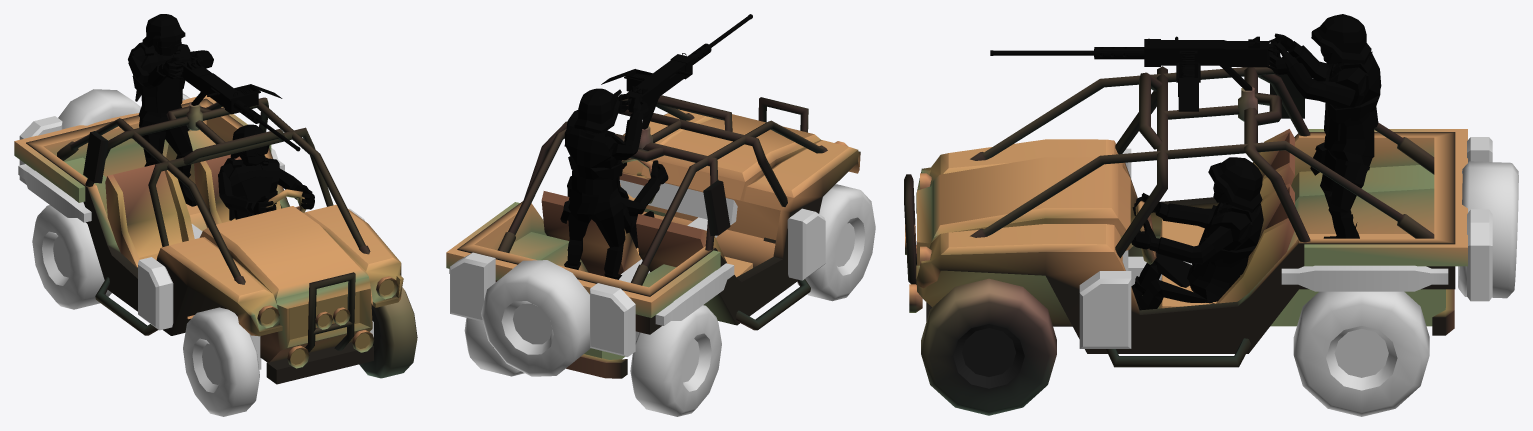
File: jeep.fbx
3 renders of one model, left to right at view 1: azimuth 30°, elevation 25°; view 2: azimuth 150°, elevation 25°; view 3: azimuth 270°, elevation 25°, orthographic. The views are drawn at different scales.
Parts seen in each view (by area): view 1: jeep; view 2: jeep; view 3: jeep.
Part boxes in pixels (<box>): jeep: <box>14,14,417,416</box>; jeep: <box>446,14,875,416</box>; jeep: <box>904,14,1518,416</box>.
Size of the model in its own units: 0.8258 by 0.9988 by 1.61.
